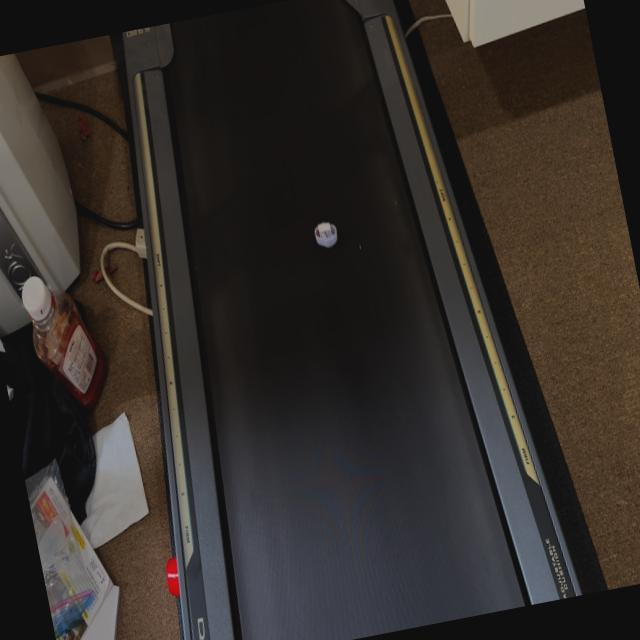Trash: (310, 218, 342, 258)
